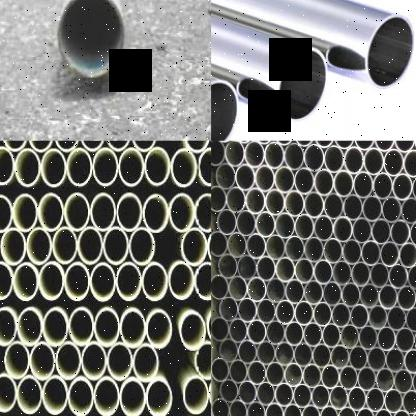pipe: (58, 0, 124, 79), (276, 46, 330, 123), (365, 13, 416, 90), (211, 78, 239, 140), (118, 147, 144, 187), (142, 193, 168, 233), (142, 262, 168, 302), (90, 262, 116, 302), (144, 147, 170, 186), (92, 147, 118, 186), (168, 193, 194, 232), (103, 226, 129, 265), (130, 227, 156, 266), (64, 262, 90, 301), (116, 262, 142, 301), (94, 308, 120, 347), (42, 308, 68, 347), (147, 310, 173, 349), (106, 342, 132, 381), (183, 376, 209, 415), (41, 148, 66, 188), (38, 192, 63, 232), (64, 192, 89, 232), (94, 376, 119, 416), (66, 148, 92, 186), (171, 149, 197, 187), (116, 193, 142, 231), (12, 194, 38, 232), (181, 228, 207, 266), (168, 262, 194, 300), (68, 308, 94, 346), (120, 310, 146, 348), (180, 312, 206, 350), (56, 342, 82, 380), (132, 344, 158, 382), (16, 376, 42, 414), (42, 377, 68, 415), (15, 148, 40, 187), (38, 262, 63, 301), (13, 263, 38, 302), (17, 308, 42, 347), (68, 377, 93, 416), (146, 380, 173, 416), (30, 341, 54, 381), (91, 193, 116, 231), (78, 227, 103, 265), (1, 228, 26, 266), (4, 341, 29, 379), (120, 380, 146, 416), (27, 228, 52, 265), (52, 227, 76, 265), (82, 342, 106, 380), (0, 373, 17, 412), (195, 340, 211, 380), (363, 146, 384, 176), (303, 142, 324, 172), (195, 193, 211, 232), (0, 307, 16, 346), (313, 167, 334, 196), (323, 144, 344, 173), (195, 262, 211, 300), (254, 164, 275, 192), (293, 166, 314, 194), (243, 140, 264, 168), (372, 171, 393, 199), (352, 170, 373, 198), (343, 146, 364, 174), (284, 141, 304, 170), (274, 211, 295, 238), (342, 194, 363, 221), (0, 145, 14, 185), (284, 189, 304, 217), (274, 165, 294, 193), (383, 148, 403, 176), (245, 186, 265, 214), (323, 192, 343, 220), (362, 194, 382, 222), (381, 195, 401, 223), (333, 169, 353, 197), (392, 172, 412, 200), (216, 209, 237, 235), (284, 235, 305, 261), (236, 209, 256, 236), (371, 218, 391, 245), (246, 232, 266, 259), (304, 191, 324, 218), (255, 210, 275, 237), (265, 188, 284, 216), (216, 162, 235, 190), (294, 212, 313, 240), (264, 140, 283, 168), (275, 256, 295, 282), (256, 255, 276, 281), (396, 284, 416, 310), (390, 219, 410, 245), (314, 214, 333, 241), (323, 237, 342, 264), (235, 163, 254, 190), (292, 383, 312, 408), (393, 368, 413, 393), (365, 387, 385, 412), (366, 346, 386, 371), (198, 147, 211, 185), (313, 300, 332, 326), (370, 262, 389, 288), (266, 234, 285, 260), (311, 384, 330, 410), (351, 260, 370, 286), (332, 260, 351, 286), (304, 236, 323, 262), (218, 253, 237, 279), (247, 276, 266, 302), (361, 240, 380, 266), (225, 140, 244, 166), (285, 278, 304, 304), (226, 186, 245, 212), (238, 296, 257, 322), (352, 217, 371, 243), (387, 305, 406, 331), (333, 216, 352, 242), (312, 342, 331, 368), (294, 257, 313, 283), (266, 319, 285, 345), (380, 240, 399, 266), (294, 300, 313, 326), (340, 324, 359, 350), (228, 274, 247, 300), (395, 326, 414, 352), (227, 231, 246, 257), (275, 340, 294, 366), (302, 362, 321, 388), (293, 342, 312, 368), (266, 277, 285, 303), (368, 304, 387, 330), (247, 318, 266, 344), (343, 238, 361, 265), (256, 380, 275, 405), (238, 339, 257, 364), (347, 386, 366, 411), (265, 361, 284, 386), (238, 379, 257, 404), (284, 362, 303, 387), (0, 261, 12, 300), (304, 279, 322, 305), (323, 280, 341, 306), (314, 258, 332, 284), (322, 322, 340, 348), (389, 263, 407, 289), (238, 254, 256, 280), (321, 363, 339, 389), (342, 282, 360, 308), (257, 298, 275, 324), (350, 302, 368, 328), (398, 241, 416, 267), (229, 317, 247, 343), (377, 326, 395, 352), (332, 302, 350, 328), (379, 284, 397, 310), (276, 298, 294, 324), (386, 346, 404, 372), (257, 340, 275, 366), (349, 344, 367, 370), (359, 324, 377, 350), (339, 364, 357, 390), (360, 282, 378, 308), (331, 344, 349, 370), (376, 366, 394, 392), (219, 296, 237, 322), (219, 337, 237, 363), (211, 230, 228, 257), (303, 322, 322, 346), (247, 360, 266, 384), (219, 378, 238, 402), (330, 385, 348, 410), (285, 321, 303, 346), (275, 382, 293, 407), (229, 359, 247, 384), (211, 316, 229, 341), (384, 388, 402, 413), (400, 196, 416, 224), (211, 273, 228, 299), (358, 366, 376, 390), (211, 357, 229, 381), (0, 194, 11, 231), (402, 148, 416, 177), (211, 184, 226, 211), (401, 389, 416, 414), (211, 140, 225, 166), (211, 397, 229, 416), (403, 347, 416, 373), (246, 399, 265, 416), (229, 398, 246, 416), (404, 306, 416, 331), (183, 141, 209, 152), (28, 141, 53, 152), (264, 401, 282, 416), (106, 141, 132, 151), (132, 141, 158, 151), (406, 264, 416, 290), (283, 402, 301, 416), (2, 141, 27, 151), (53, 141, 78, 151), (80, 141, 104, 151), (301, 403, 319, 416), (394, 141, 415, 152), (319, 404, 338, 416), (337, 404, 355, 416), (374, 141, 394, 151), (409, 219, 416, 247), (354, 141, 375, 150), (373, 407, 392, 416), (356, 406, 373, 416), (333, 141, 354, 148), (411, 173, 416, 201), (392, 409, 411, 416), (314, 141, 333, 147), (412, 370, 416, 394), (413, 327, 416, 352), (410, 410, 416, 416)
